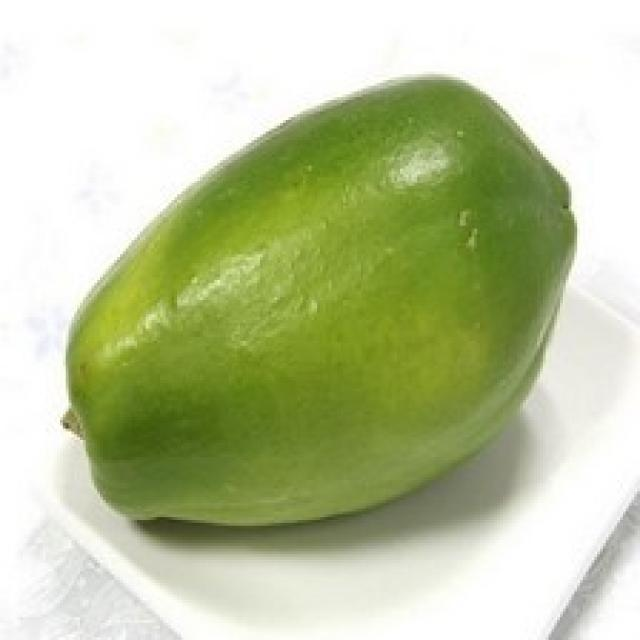Pepaya unrippen: (62, 76, 581, 538)
